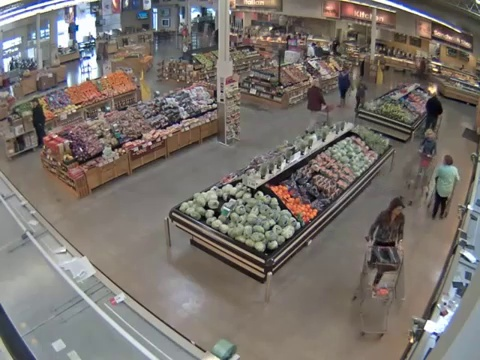face: (393, 206, 404, 217), (427, 131, 433, 138)
